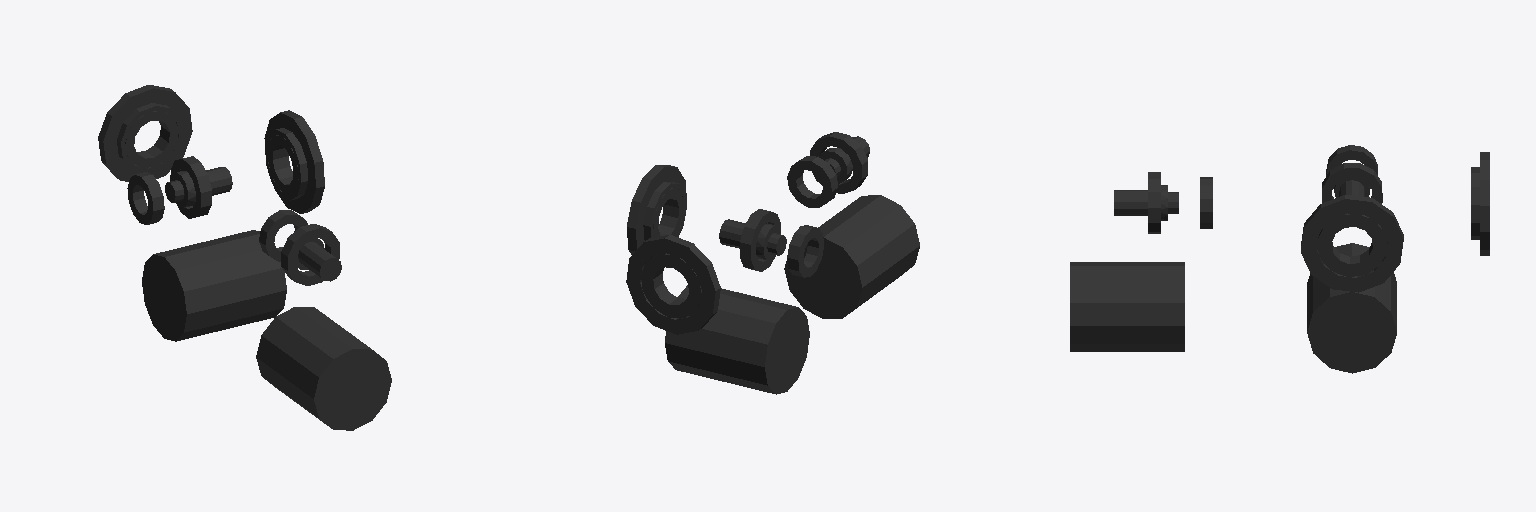
The model's file is Dual_Servo_Al_022_3_mesh_3.obj.
3 views of the same model, side by side, from view 1: azimuth 30°, elevation 25°; view 2: azimuth 150°, elevation 25°; view 3: azimuth 270°, elevation 25° (orthographic).
Size of the model in its own units: 0.0352 by 0.0406 by 0.0807.